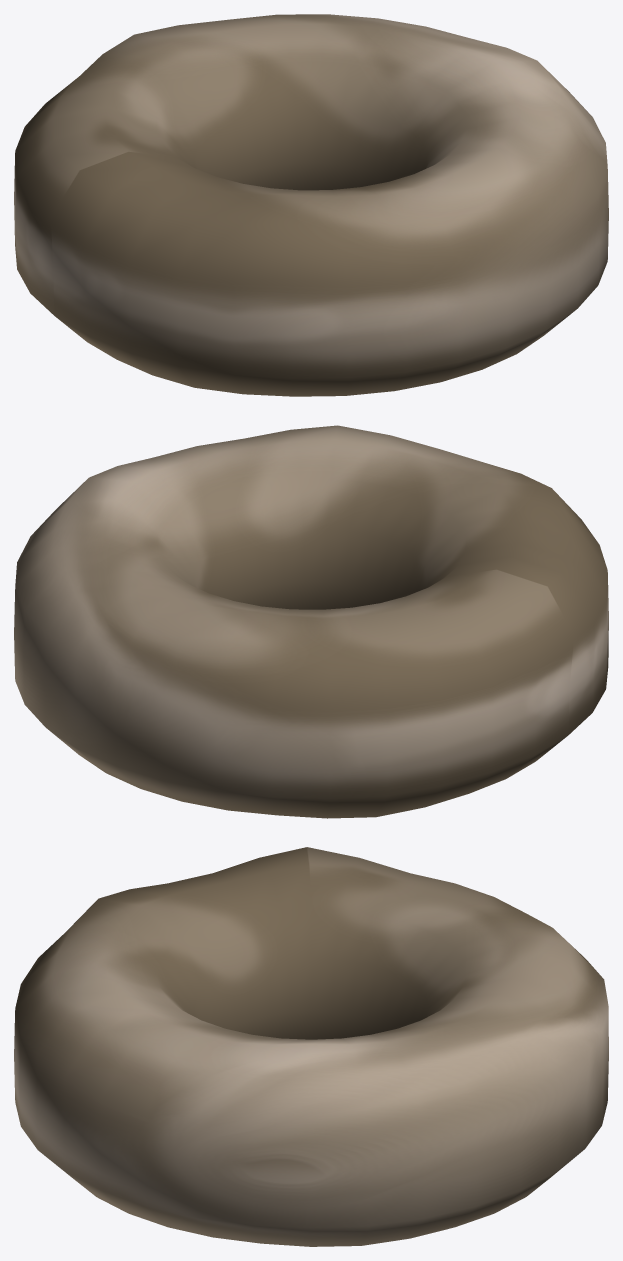
File: donut4_alt.glb
3 views of the same model, one above another, from view 1: azimuth 30°, elevation 25°; view 2: azimuth 150°, elevation 25°; view 3: azimuth 270°, elevation 25° (orthographic).
Visible parts, largest first — view 1: Torus.001; view 2: Torus.001; view 3: Torus.001.
Boxes of the visible parts, x1=… form: Torus.001: x1=14, y1=14, x2=608, y2=396; Torus.001: x1=14, y1=425, x2=608, y2=818; Torus.001: x1=14, y1=847, x2=608, y2=1246.
Size of the model in its own units: 0.2898 by 0.1043 by 0.2878.
Materials: 1 (1 with a texture image).
